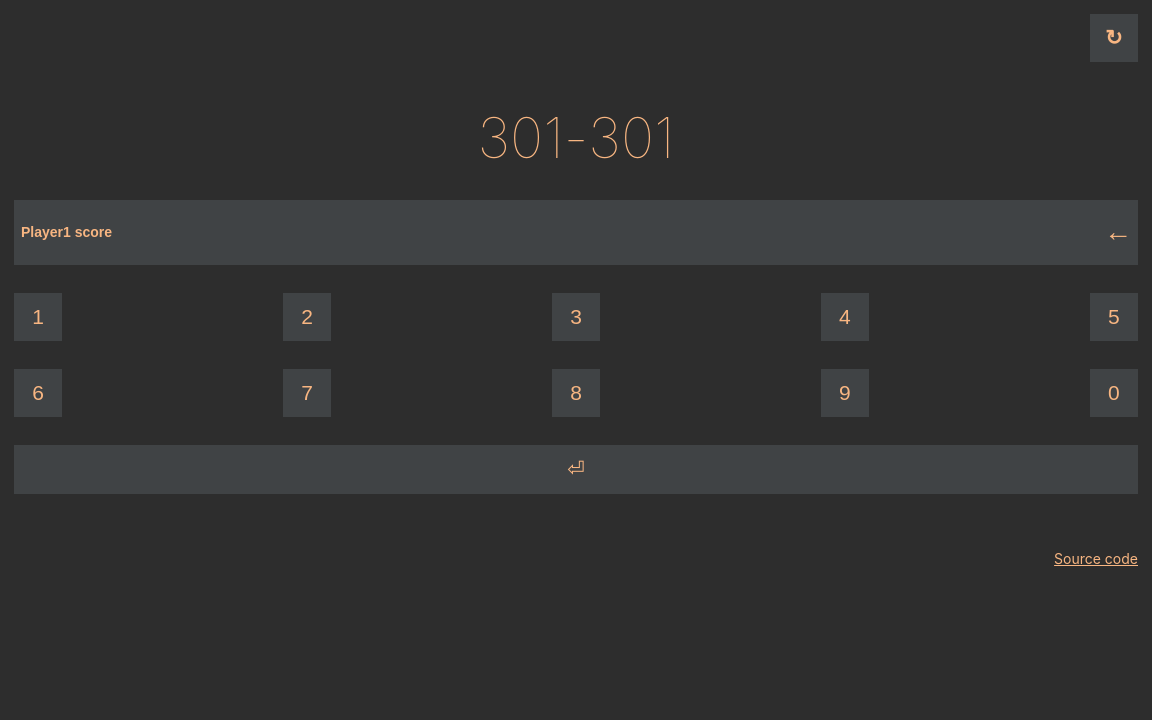
scoreboard › allows players to reset game state
Expected: the text with test id "player1Score" reads "301", [478, 104, 564, 172]
Expected: the text with test id "player2Score" reads "301", [588, 104, 674, 172]
Click the button with test id "numberButton1". click: (38, 317)
box: [14, 293, 62, 341]
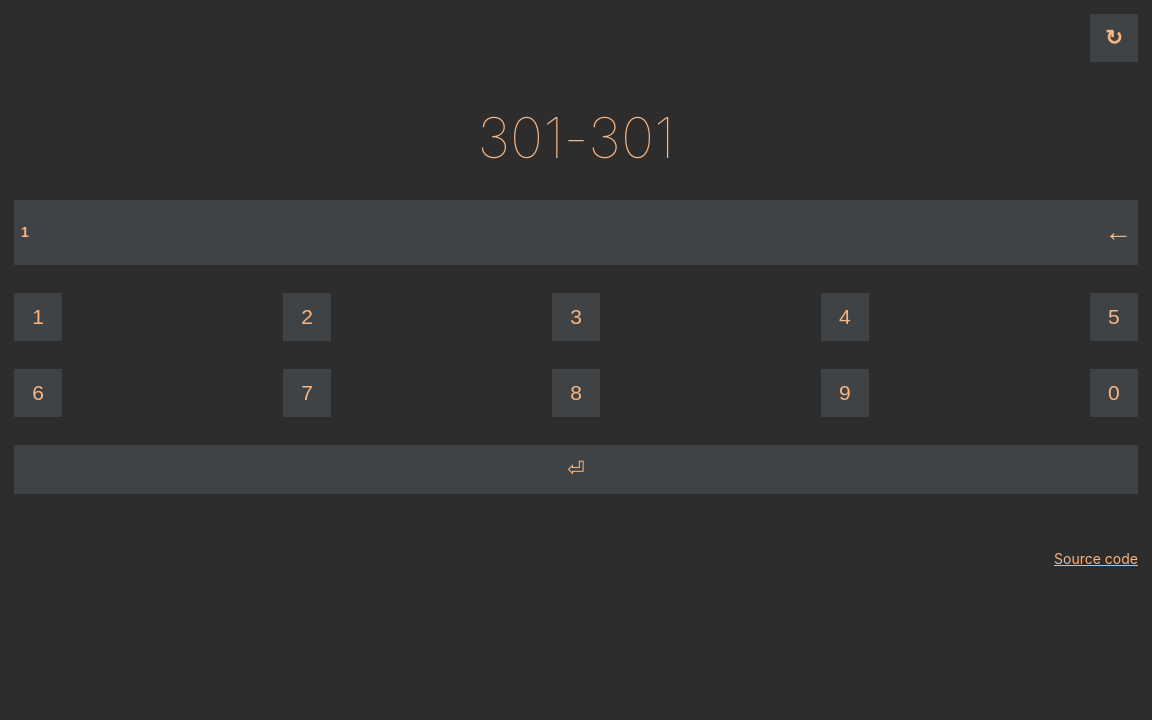
Click the button with test id "enterButton". click: (576, 469)
box: [14, 445, 1138, 493]
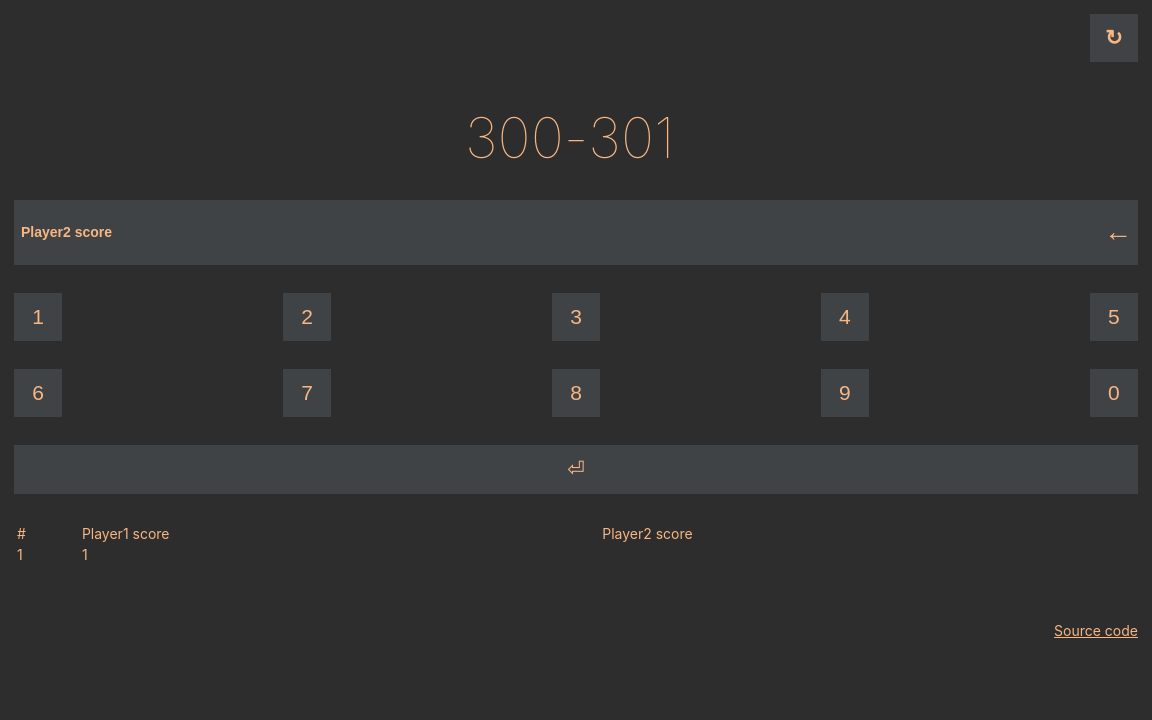
Click the button with test id "numberButton1". click: (38, 317)
box: [14, 293, 62, 341]
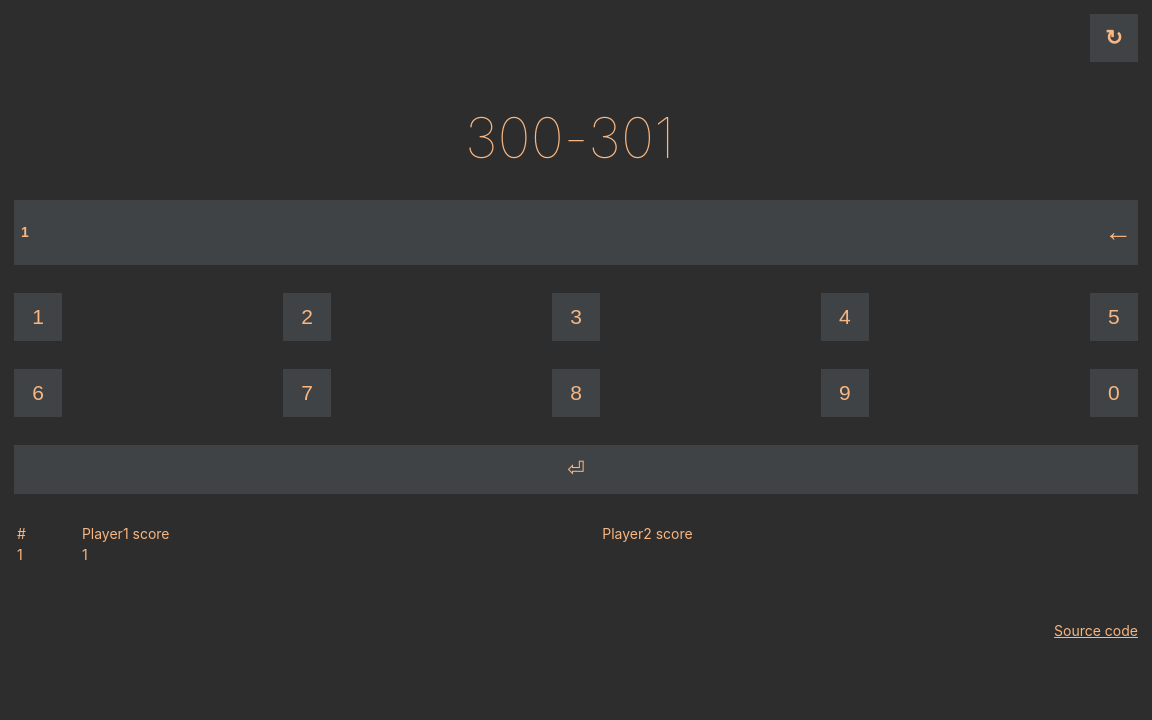
Click the button with test id "enterButton". click: (576, 469)
box: [14, 445, 1138, 493]
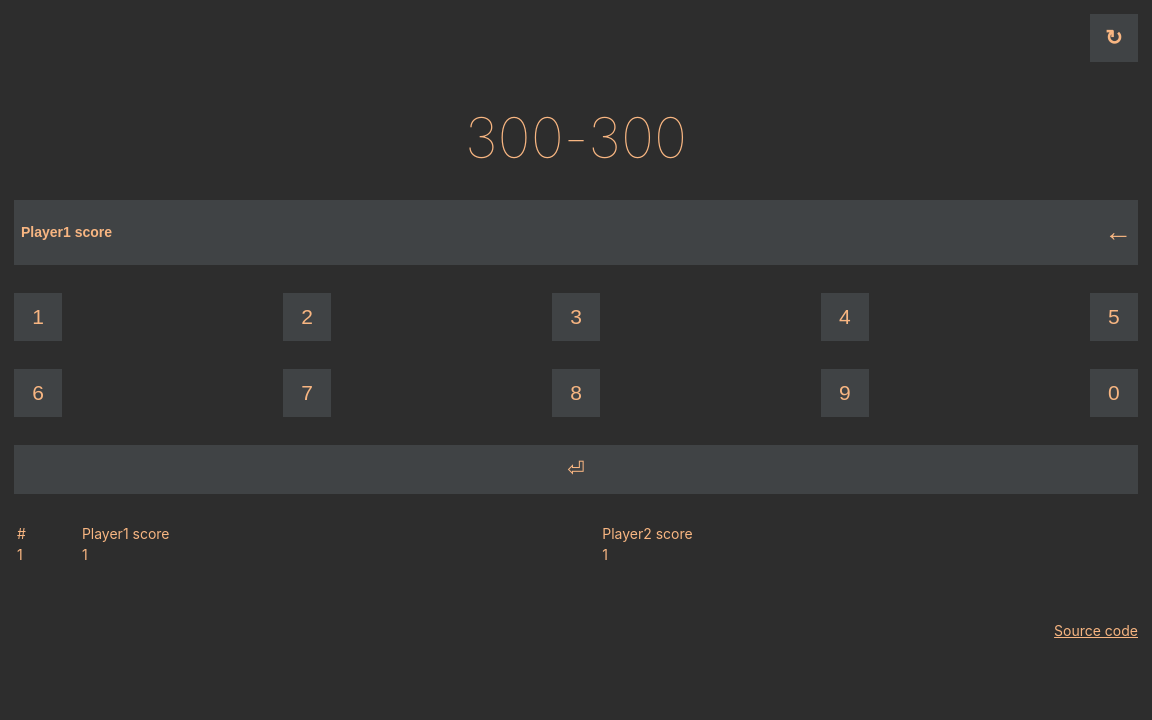
Expected: the text with test id "player1Score" reads "300", [465, 104, 564, 172]
Expected: the text with test id "player2Score" reads "300", [588, 104, 687, 172]
Click the button with test id "resetButton". click: (1114, 38)
box: [1090, 14, 1138, 62]
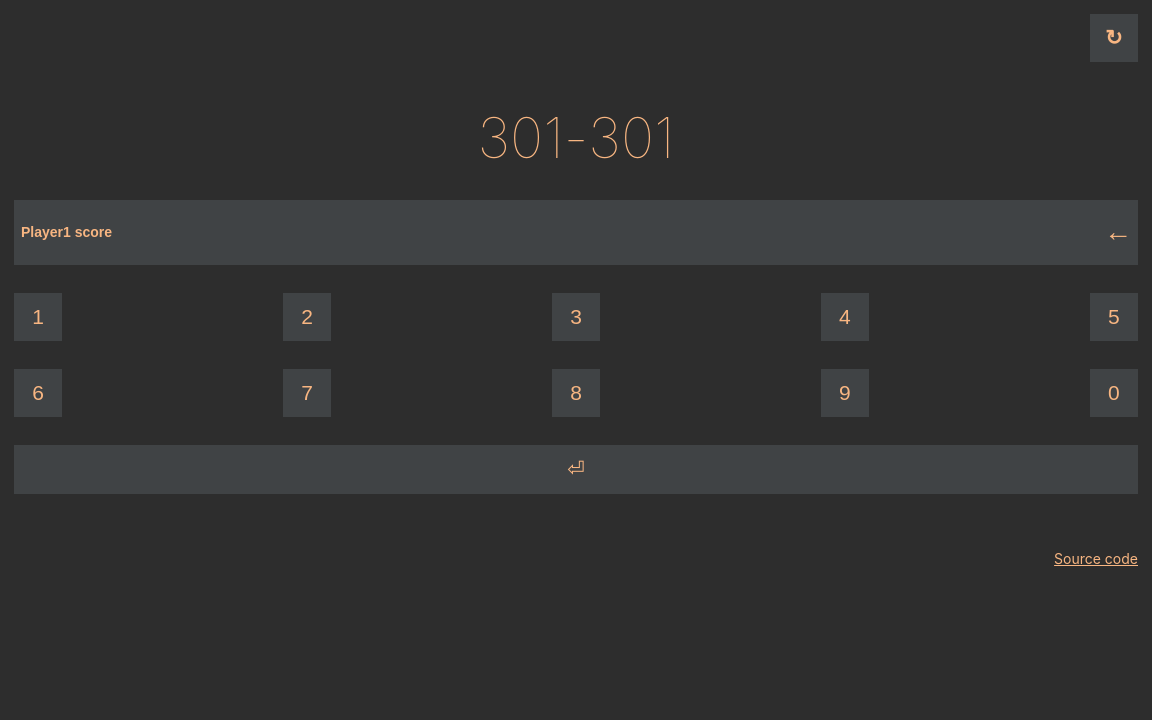
Expected: the text with test id "player1Score" reads "301", [478, 104, 564, 172]
Expected: the text with test id "player2Score" reads "301", [588, 104, 674, 172]
